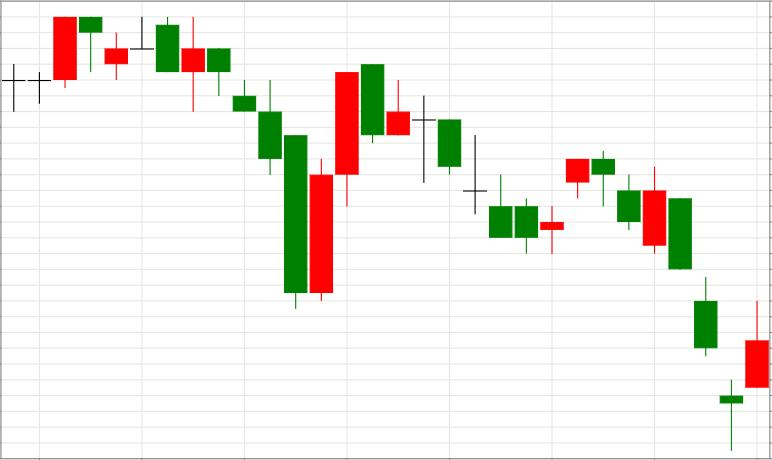morning_star_rise: (592, 151, 769, 452)
